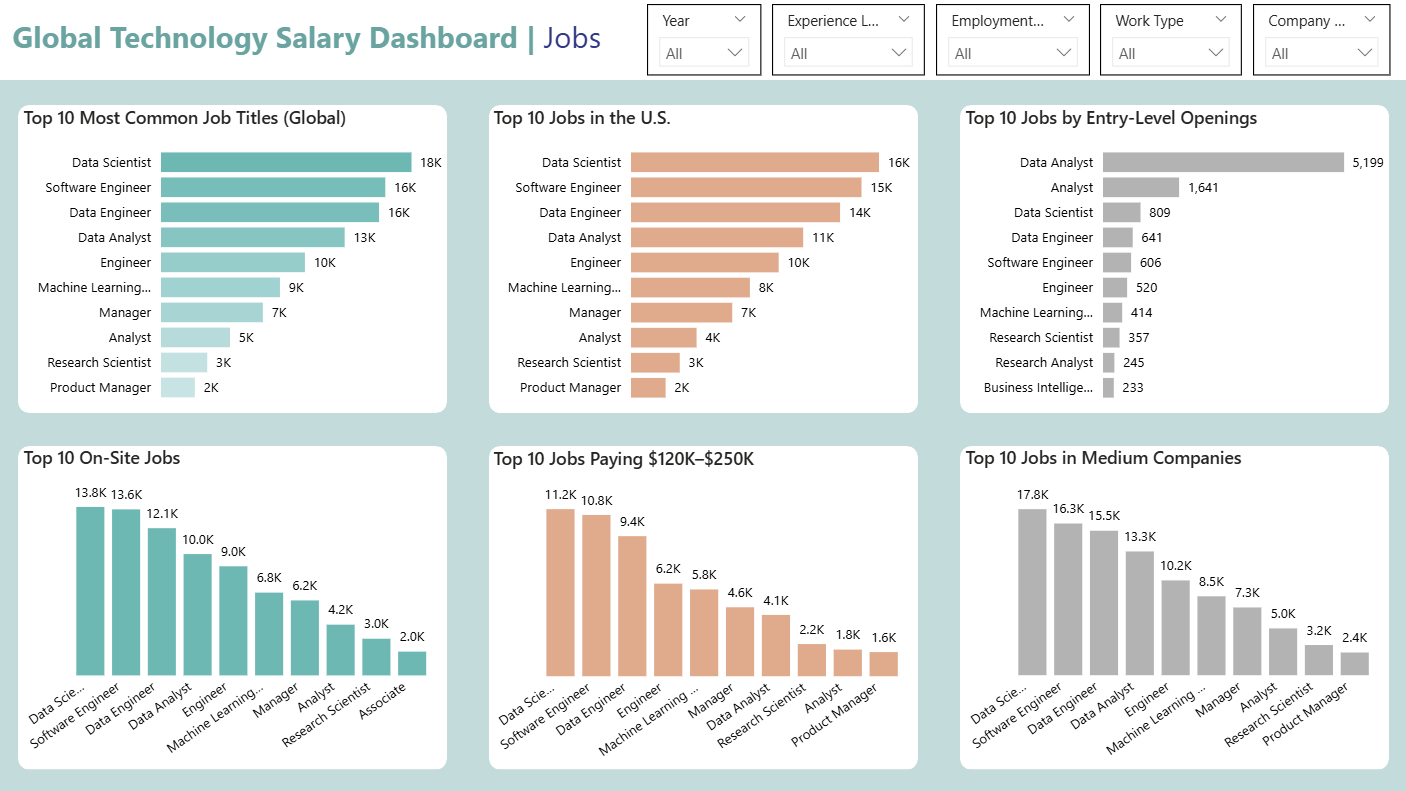

This screenshot's page, from the dashboard's own definition file:
{"tool":"powerbi","page":{"name":"Jobs","canvas":[1280,720],"ordinal":1},"visuals":[{"type":"shape","box":[0,0,1279.5,72.7],"z":0},{"type":"shape","box":[16.8,95.8,390,280],"z":1000},{"type":"shape","box":[873.4,95.8,390.1,280.2],"z":2000},{"type":"shape","box":[445,95.8,390.1,280.2],"z":3000},{"type":"shape","box":[17.1,405.2,390,294.3],"z":4000},{"type":"shape","box":[445.5,405.2,390,294.3],"z":5000},{"type":"shape","box":[873.8,405.2,390,294.3],"z":6000},{"type":"clusteredBarChart","title":"Top 10 Most Common Job Titles (Global)","fields":{"Y":["global_tech_salary.Total Jobs"],"Category":["global_tech_salary.Jobs"]},"box":[17.1,95.7,390,280.2],"z":7000},{"type":"clusteredBarChart","title":"Top 10 Jobs by Entry-Level Openings","fields":{"Category":["global_tech_salary.Jobs"],"Series":["global_tech_salary.Experience_Level"],"Y":["global_tech_salary.Total Jobs"]},"box":[873.6,95.6,390.3,280.5],"z":8000},{"type":"clusteredColumnChart","title":"Top 10 Jobs in Medium Companies","fields":{"Y":["global_tech_salary.Total Jobs"],"Category":["global_tech_salary.Jobs"],"Series":["global_tech_salary.Company_Size"]},"box":[873.4,404.3,390.1,295.3],"z":9000},{"type":"clusteredBarChart","title":"Top 10 Jobs in the U.S.","fields":{"Y":["global_tech_salary.Total Jobs"],"Category":["global_tech_salary.Jobs"],"Series":["global_tech_salary.Company_Location"]},"box":[444.8,95.6,390.3,280.5],"z":10000},{"type":"clusteredColumnChart","title":"Top 10 On-Site Jobs","fields":{"Category":["global_tech_salary.Jobs"],"Y":["global_tech_salary.Total Jobs"],"Series":["global_tech_salary.Work_Type"]},"box":[17.2,404.7,389.6,294.5],"z":11000},{"type":"clusteredColumnChart","title":"Top 10 Jobs Paying $120K–$250K","fields":{"Y":["global_tech_salary.Total Jobs"],"Category":["global_tech_salary.Jobs"],"Series":["global_tech_salary.Salary_Bucket"]},"box":[445,405.1,391.1,295.3],"z":12000},{"type":"textbox","box":[7.3,10,567.3,52.7],"z":13000},{"type":"slicer","fields":{"Values":["global_tech_salary.Work_Year"]},"box":[589.1,3.6,103.6,65.5],"z":14000},{"type":"slicer","fields":{"Values":["global_tech_salary.Experience_Level"]},"box":[702.5,3.6,139.1,65.5],"z":15000},{"type":"slicer","fields":{"Values":["global_tech_salary.Employment_Type"]},"box":[851.4,3.6,140,65.5],"z":16000},{"type":"slicer","fields":{"Values":["global_tech_salary.Work_Type"]},"box":[1001.1,3.6,129.1,65.5],"z":17000},{"type":"slicer","fields":{"Values":["global_tech_salary.Company_Size"]},"box":[1140,3.6,125.5,65.5],"z":18000}]}

Visuals, with their boxes in screenshot pixels (x1, y1, x2, y2), scaled from the page's 1280x720 canvas onto the 1406x791 screenshot:
shape: locate(0, 0, 1405, 80)
shape: locate(18, 105, 447, 413)
shape: locate(959, 105, 1388, 413)
shape: locate(489, 105, 917, 413)
shape: locate(19, 445, 447, 768)
shape: locate(489, 445, 918, 768)
shape: locate(960, 445, 1388, 768)
"Top 10 Most Common Job Titles (Global)" clusteredBarChart: locate(19, 105, 447, 413)
"Top 10 Jobs by Entry-Level Openings" clusteredBarChart: locate(960, 105, 1388, 413)
"Top 10 Jobs in Medium Companies" clusteredColumnChart: locate(959, 444, 1388, 769)
"Top 10 Jobs in the U.S." clusteredBarChart: locate(489, 105, 917, 413)
"Top 10 On-Site Jobs" clusteredColumnChart: locate(19, 445, 447, 768)
"Top 10 Jobs Paying $120K–$250K" clusteredColumnChart: locate(489, 445, 918, 769)
textbox: locate(8, 11, 631, 69)
slicer - global_tech_salary.Work_Year: locate(647, 4, 761, 76)
slicer - global_tech_salary.Experience_Level: locate(772, 4, 924, 76)
slicer - global_tech_salary.Employment_Type: locate(935, 4, 1089, 76)
slicer - global_tech_salary.Work_Type: locate(1100, 4, 1241, 76)
slicer - global_tech_salary.Company_Size: locate(1252, 4, 1390, 76)
